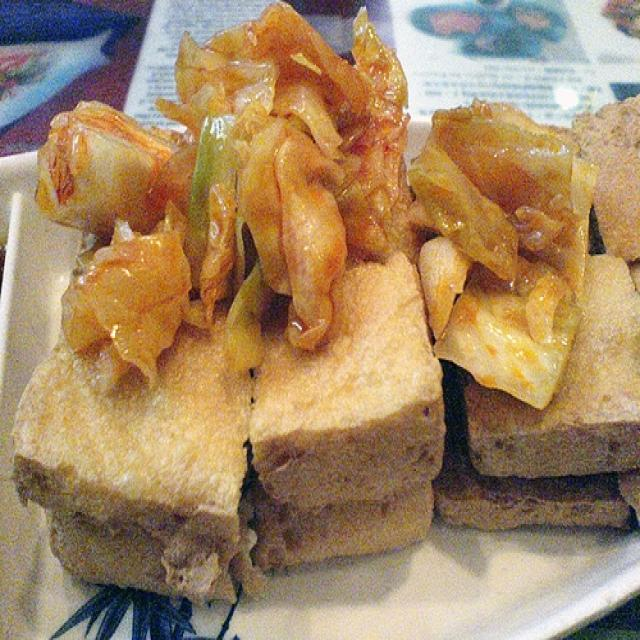豆腐料理: (13, 12, 635, 613)
